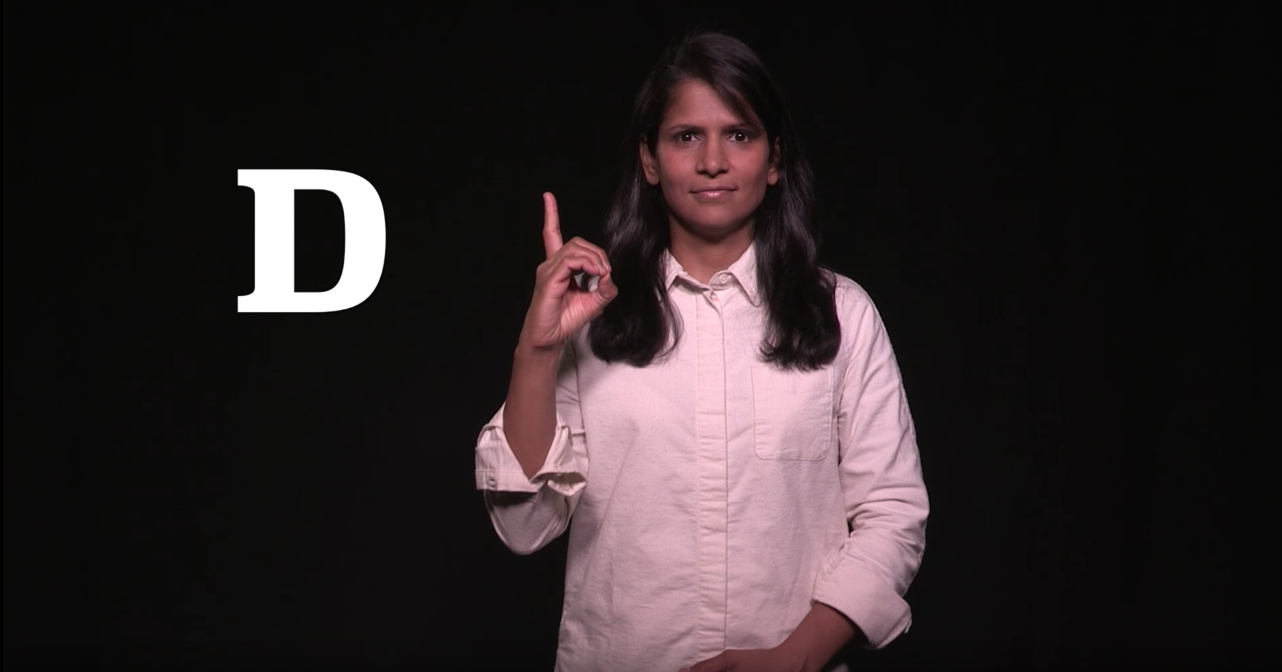d: (509, 175, 639, 363)
